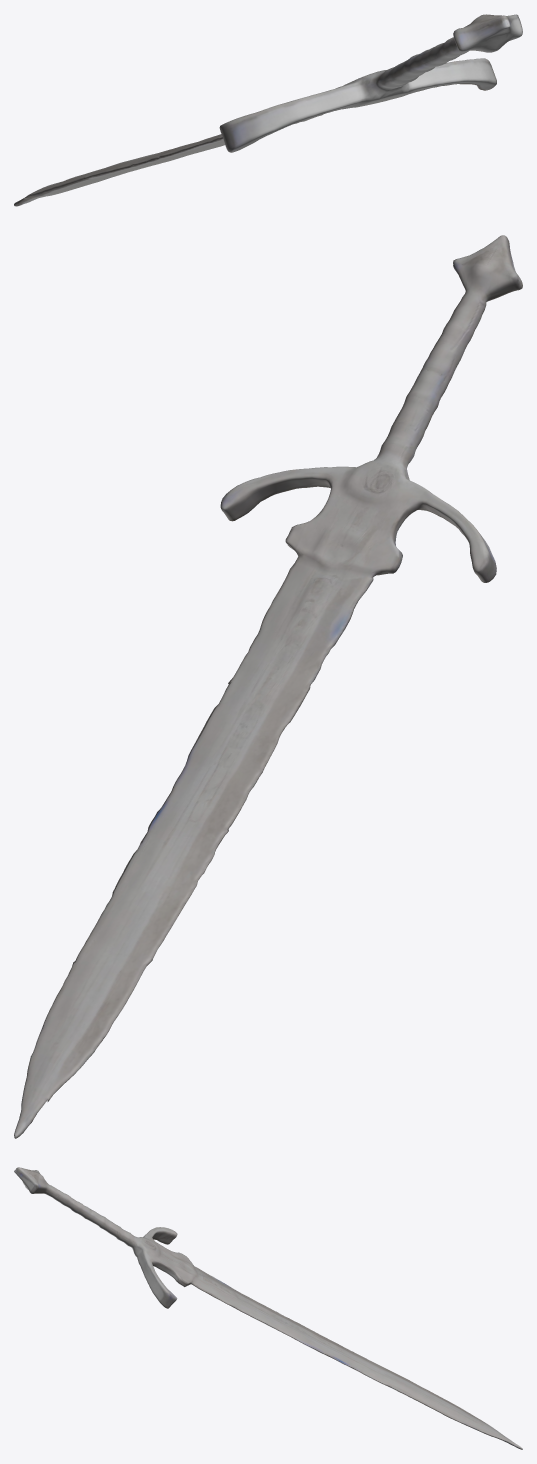
Rendered from Mithril Sword.glb.
The picture shows the model from 3 angles, top to bottom: view 1: azimuth 30°, elevation 25°; view 2: azimuth 150°, elevation 25°; view 3: azimuth 270°, elevation 25°; orthographic projection. The views are drawn at different scales.
Visible parts, largest first — view 1: file1; view 2: file1; view 3: file1.
Part boxes in pixels (<box>): file1: <box>14,14,522,206</box>; file1: <box>14,235,522,1138</box>; file1: <box>14,1167,522,1449</box>.
Bounding box in the file's own units: 0.6246 × 1.22 × 2.
Materials: 1 (1 with a texture image).
